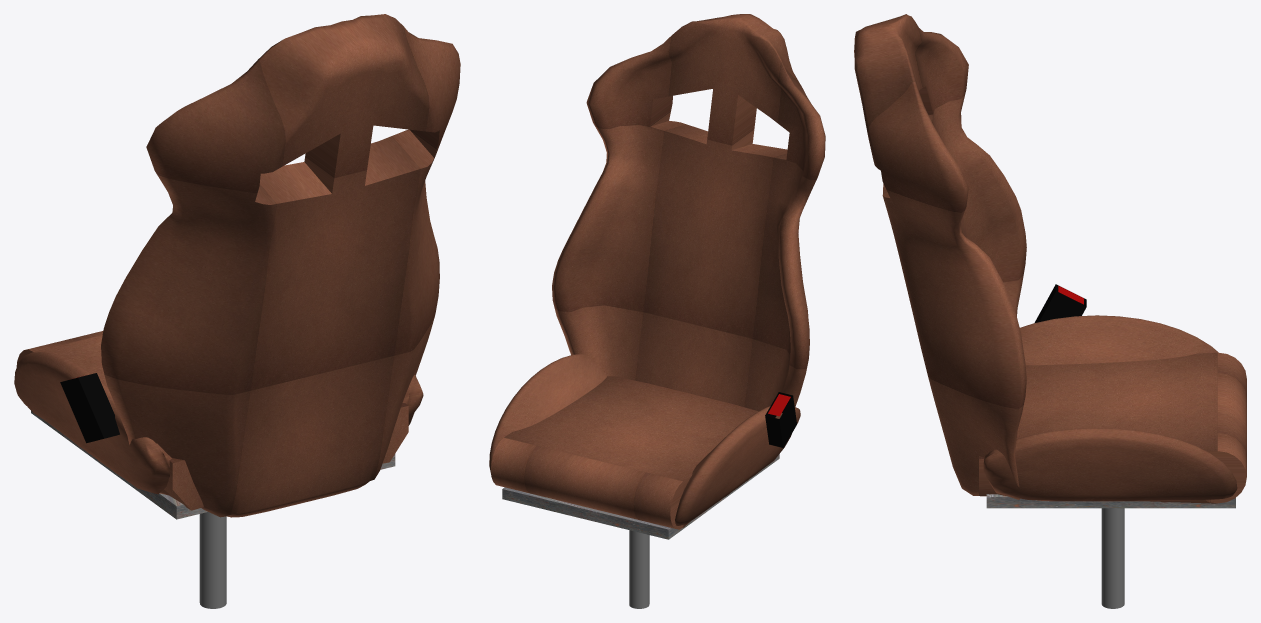
The model's file is silla4.obj.
The picture shows the model from 3 angles, left to right: view 1: azimuth 30°, elevation 25°; view 2: azimuth 150°, elevation 25°; view 3: azimuth 270°, elevation 25°; orthographic projection. The views are drawn at different scales.
Visible parts, largest first — view 1: tablerocontrol:polySurface16 polySurface29; view 2: tablerocontrol:polySurface16 polySurface29; view 3: tablerocontrol:polySurface16 polySurface29.
Boxes of the visible parts, box(x1,y1,x2,y2) form: tablerocontrol:polySurface16 polySurface29: box(14, 14, 460, 608); tablerocontrol:polySurface16 polySurface29: box(489, 14, 825, 608); tablerocontrol:polySurface16 polySurface29: box(854, 14, 1246, 608).
Bounding box in the file's own units: 0.1634 × 0.3124 × 0.1924.
Materials: 9 (8 with a texture image).
